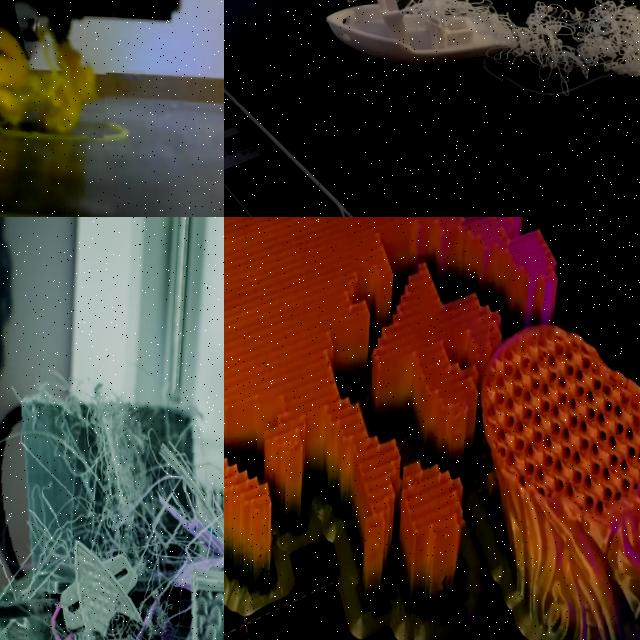spaghetti: (0, 384, 224, 640), (292, 0, 528, 110), (493, 0, 640, 117), (0, 26, 106, 138)
